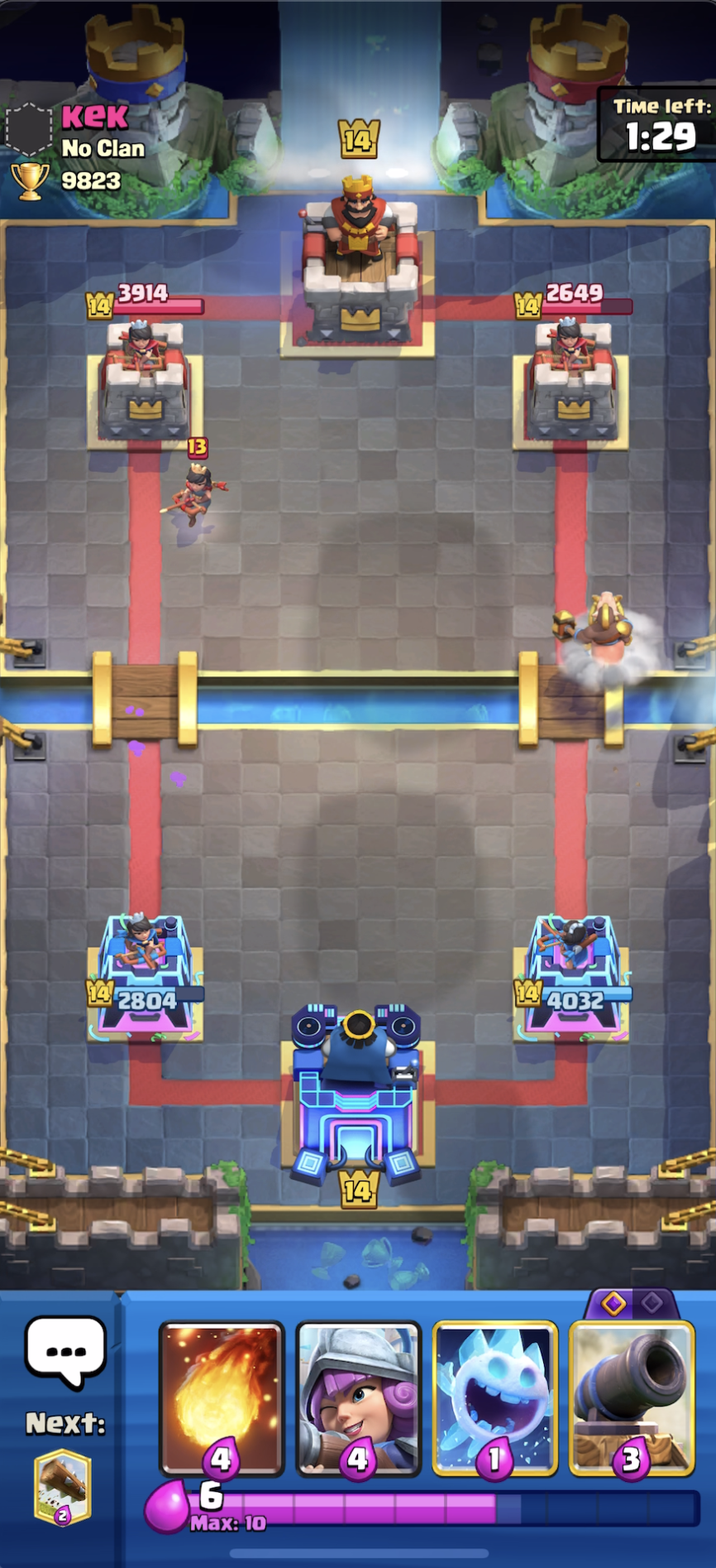hog-rider: (552, 580, 665, 692)
